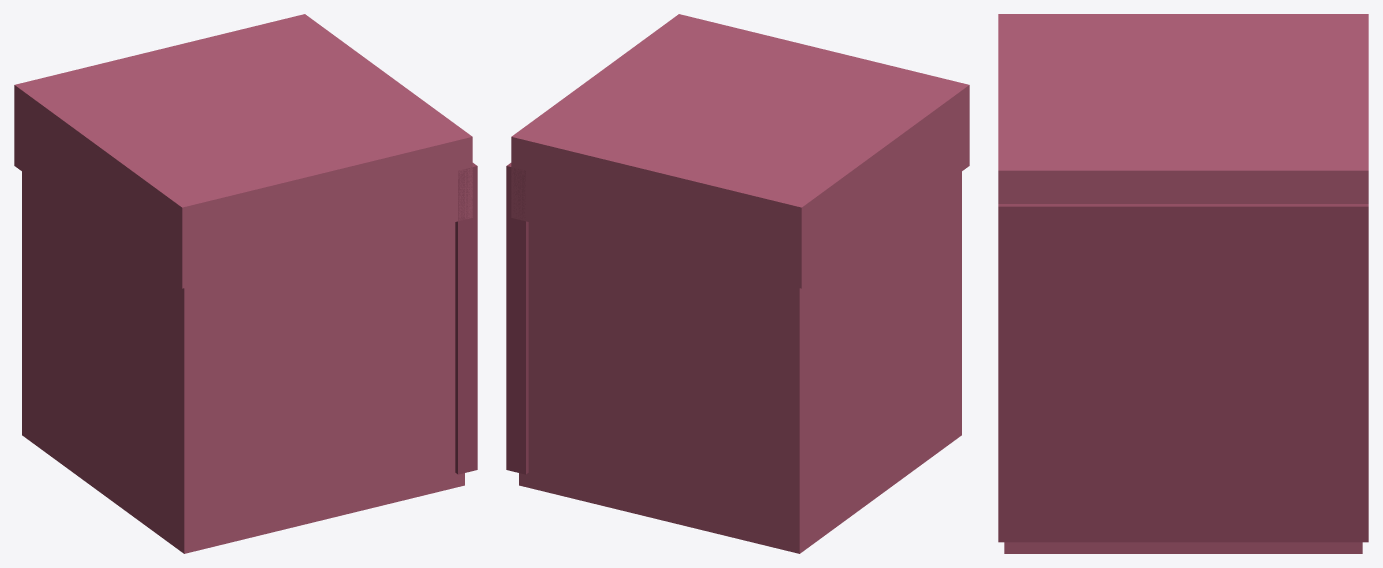
The model's file is jaqueta_manga_sup.glb.
The picture shows the model from 3 angles, left to right: view 1: azimuth 30°, elevation 25°; view 2: azimuth 150°, elevation 25°; view 3: azimuth 270°, elevation 25°; orthographic projection. The views are drawn at different scales.
Visible parts, largest first — view 1: jaqueta_manga_sup; view 2: jaqueta_manga_sup; view 3: jaqueta_manga_sup.
Boxes of the visible parts, x1,y1,x2,y2 form: jaqueta_manga_sup: (14, 14, 477, 553); jaqueta_manga_sup: (506, 14, 969, 553); jaqueta_manga_sup: (998, 14, 1368, 553).
Size of the model in its own units: 0.305 by 0.345 by 0.3.
